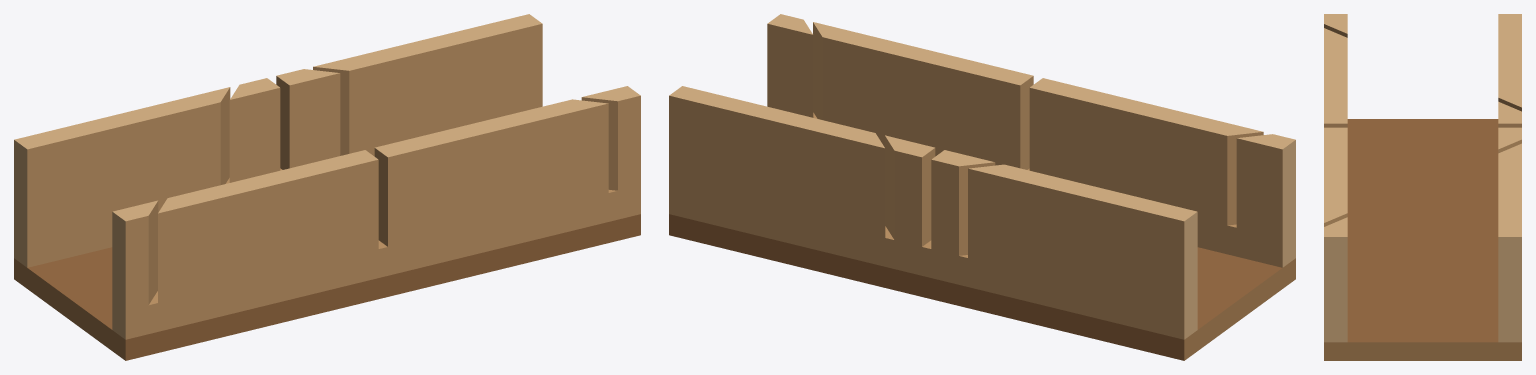
3 views of the same model, side by side, from view 1: azimuth 30°, elevation 25°; view 2: azimuth 150°, elevation 25°; view 3: azimuth 270°, elevation 25° (orthographic). The views are drawn at different scales.
Parts seen in each view (by area): view 1: FrontContinuousSlottedWall, RearContinuousSlottedWall, WholeGroundedBottom; view 2: RearContinuousSlottedWall, FrontContinuousSlottedWall, WholeGroundedBottom; view 3: WholeGroundedBottom, FrontContinuousSlottedWall, RearContinuousSlottedWall.
Boxes of the visible parts, x1=… form: FrontContinuousSlottedWall: x1=112, y1=86, x2=640, y2=339; RearContinuousSlottedWall: x1=14, y1=14, x2=542, y2=267; WholeGroundedBottom: x1=14, y1=214, x2=640, y2=360; RearContinuousSlottedWall: x1=669, y1=86, x2=1197, y2=339; FrontContinuousSlottedWall: x1=767, y1=14, x2=1295, y2=267; WholeGroundedBottom: x1=669, y1=214, x2=1295, y2=360; WholeGroundedBottom: x1=1324, y1=119, x2=1521, y2=360; FrontContinuousSlottedWall: x1=1324, y1=14, x2=1347, y2=342; RearContinuousSlottedWall: x1=1498, y1=14, x2=1521, y2=342.
Bounding box in the file's own units: 0.56 × 0.145 × 0.21.
